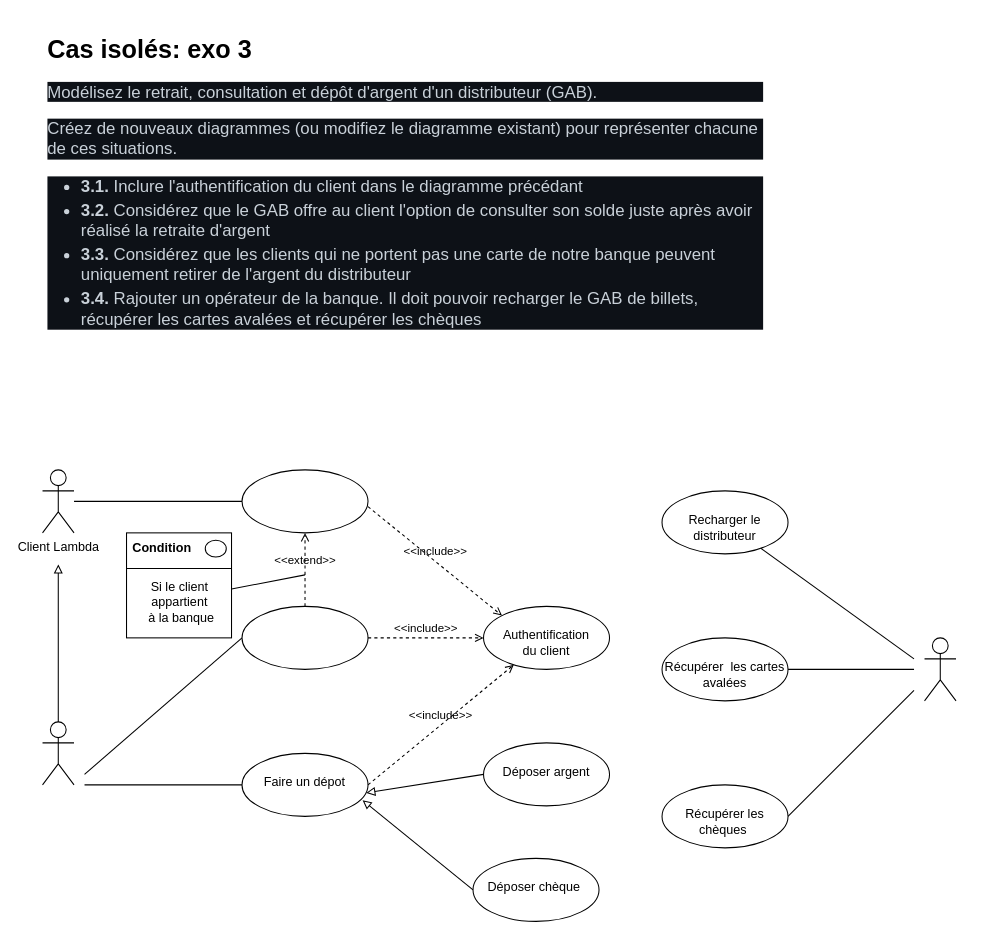
This 987x940 diagram has some shape labels left out. Each missing label, with the centre of its shape:
Client de la Banque: pixel 57 753
Consulter son solde: pixel 304 637
Opérateur: pixel 939 669
Retirer de l'argent: pixel 304 501
